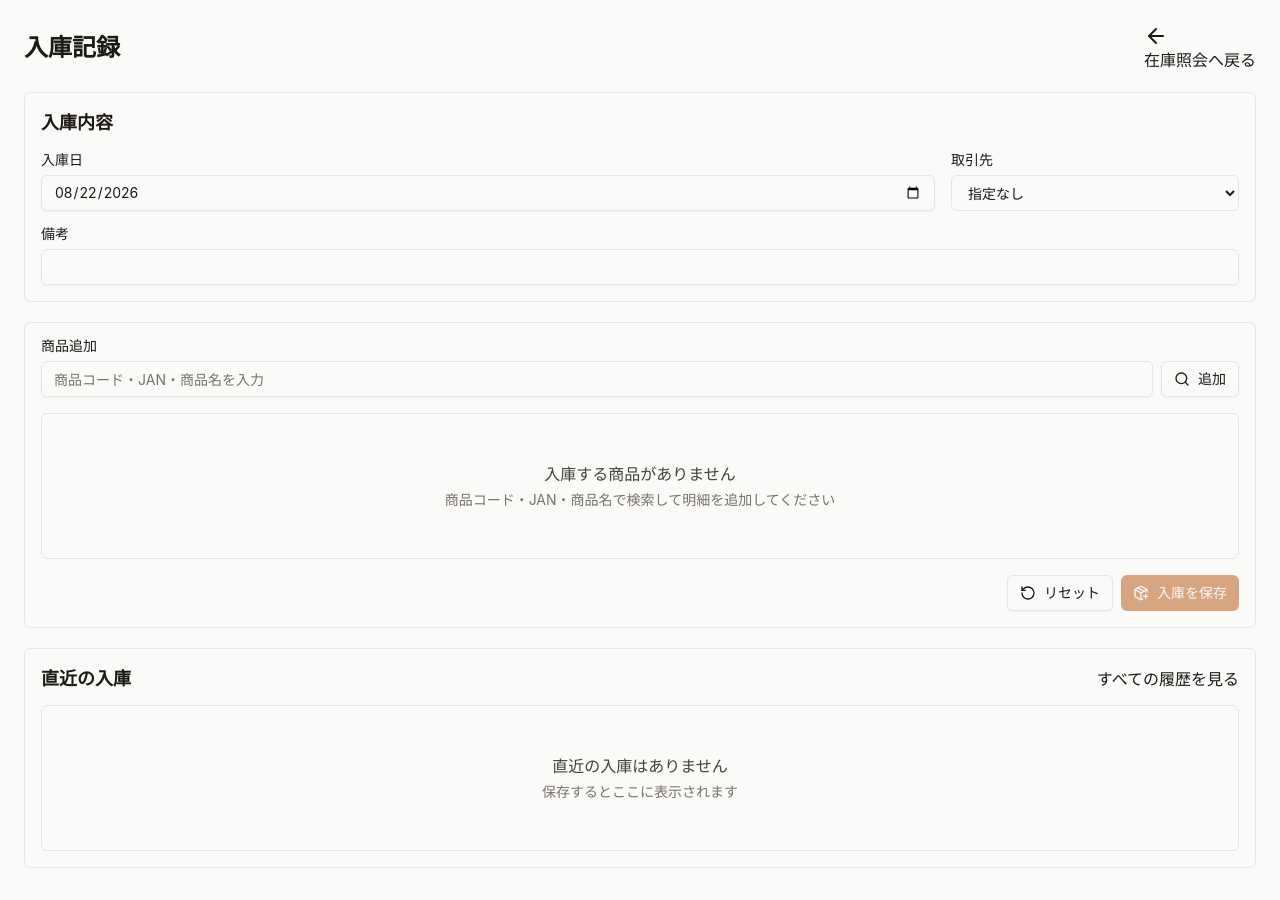
ReceivingPage (UI-02 / REQ-201) › REQ-201 keeps validation errors for unchanged rows when another row changes
Step 1. Type "P-001" into the dropdown named "入庫商品検索" → (597,379), box [41, 361, 1153, 397]
Then press Enter
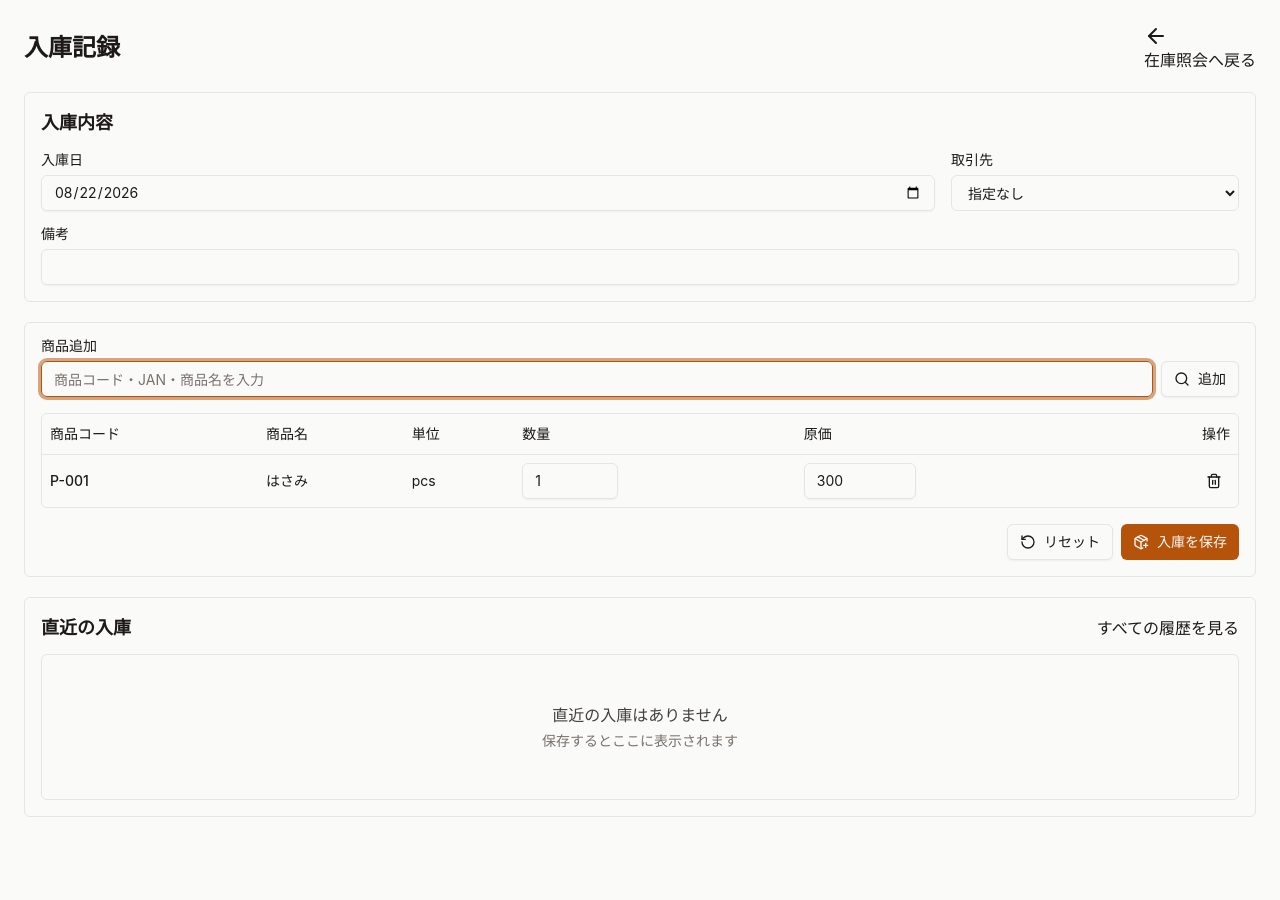
Step 2. Type "P-002" into the dropdown named "入庫商品検索" → (597,379), box [41, 361, 1153, 397]
Then press Enter
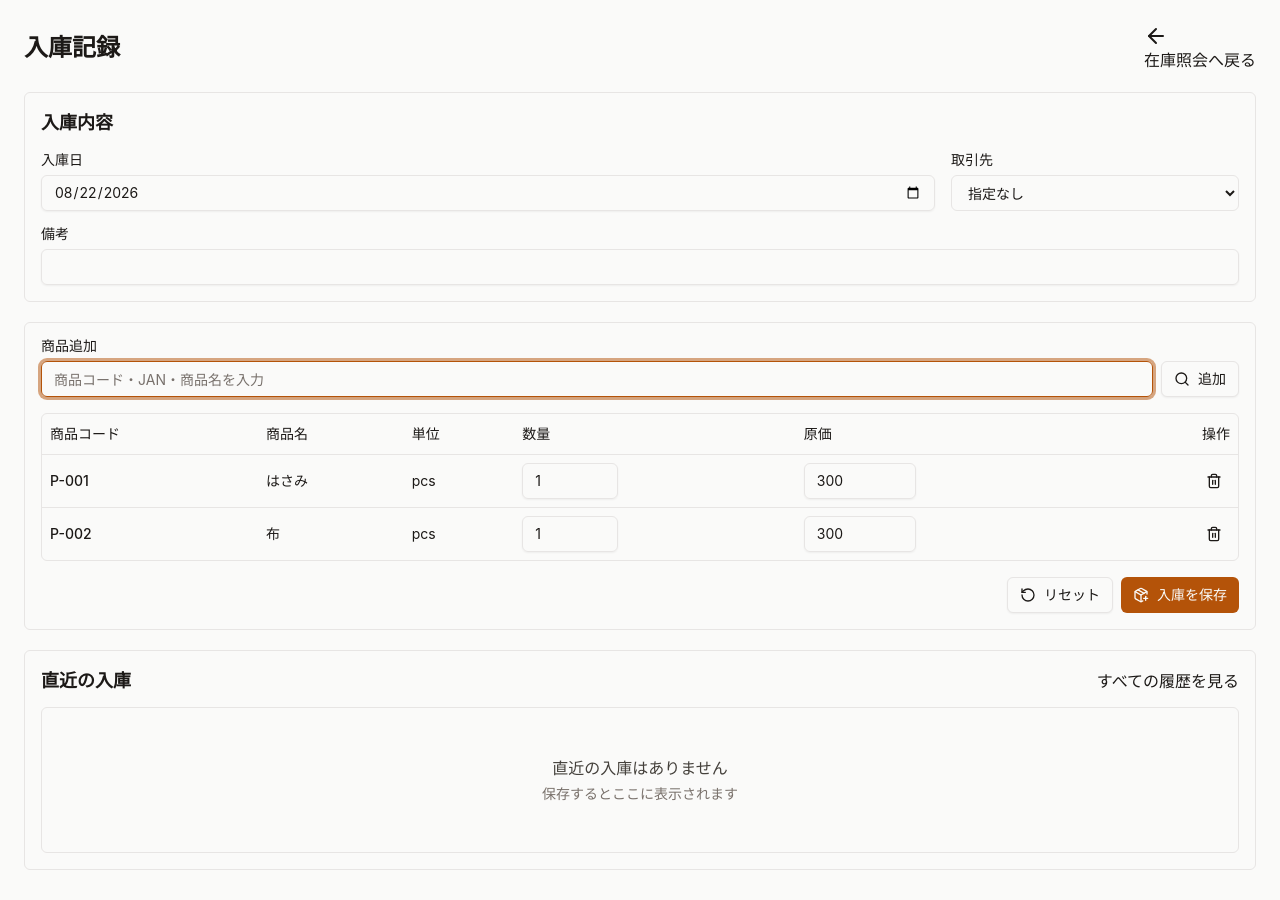
Step 3. Replace the text in the number field named "P-001 の数量" with "0" → (570,480), box [522, 462, 618, 498]
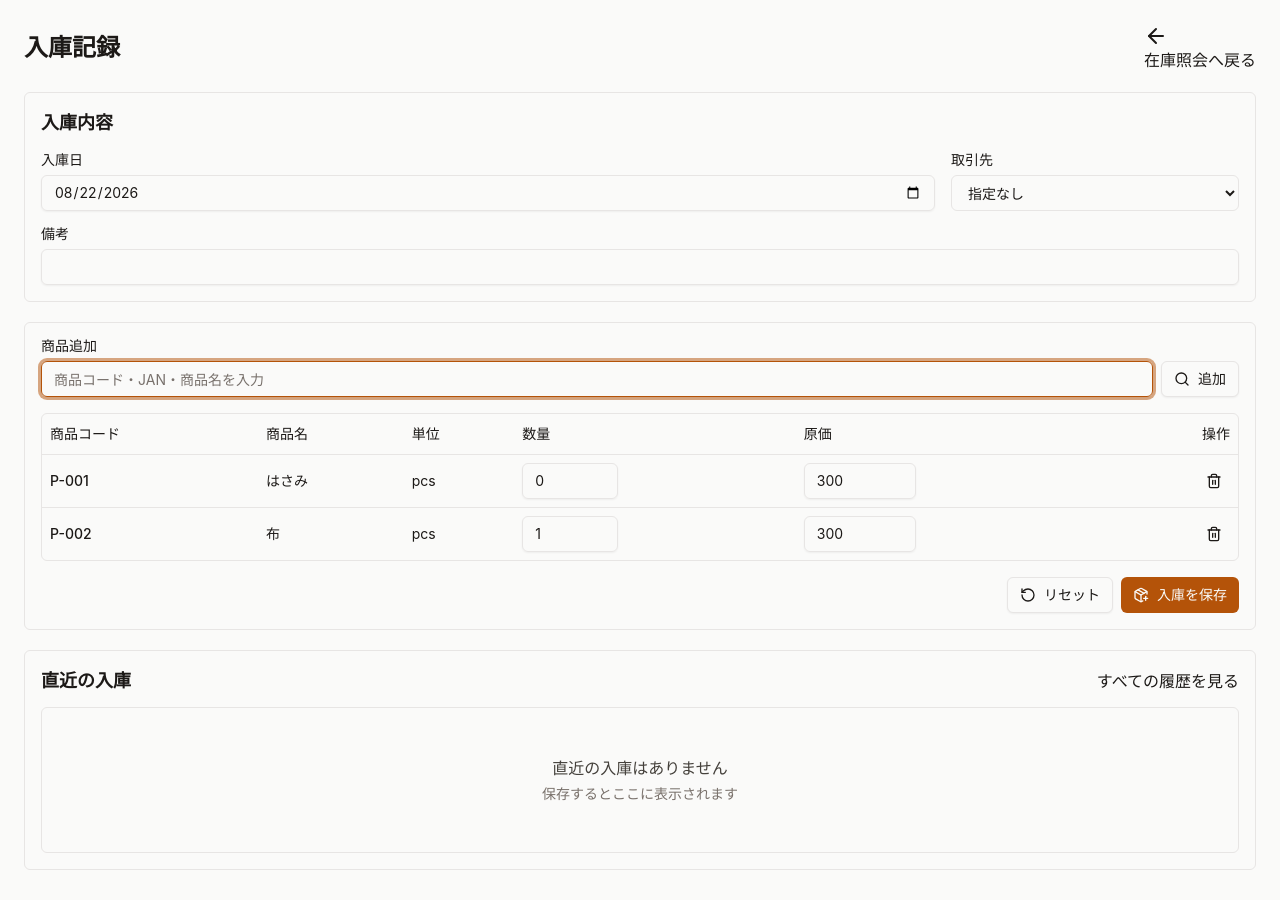
Step 4. Replace the text in the number field named "P-002 の数量" with "0" → (570,534), box [522, 516, 618, 552]
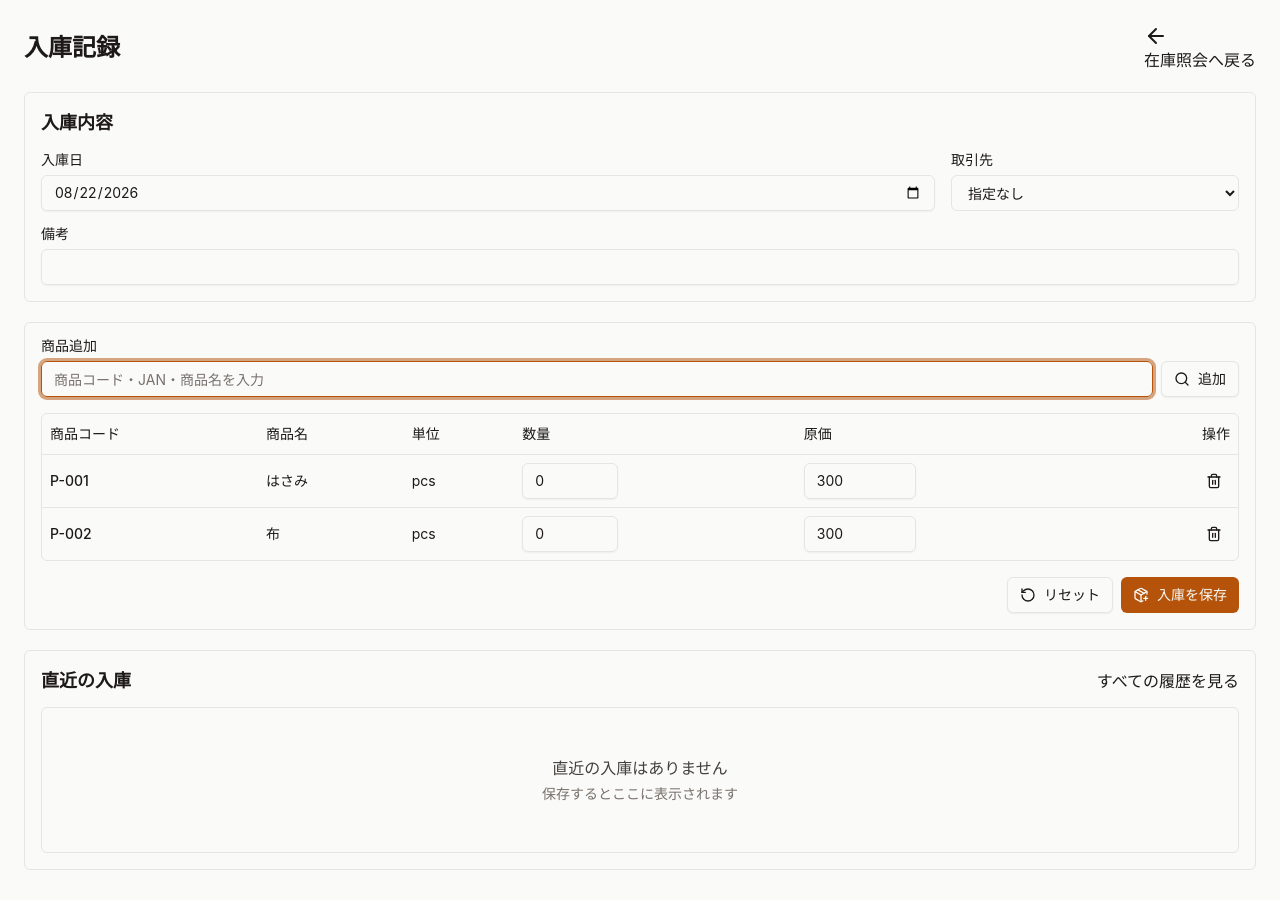
Step 5. Click the button "入庫を保存" → (1180,594), box [1121, 576, 1239, 612]
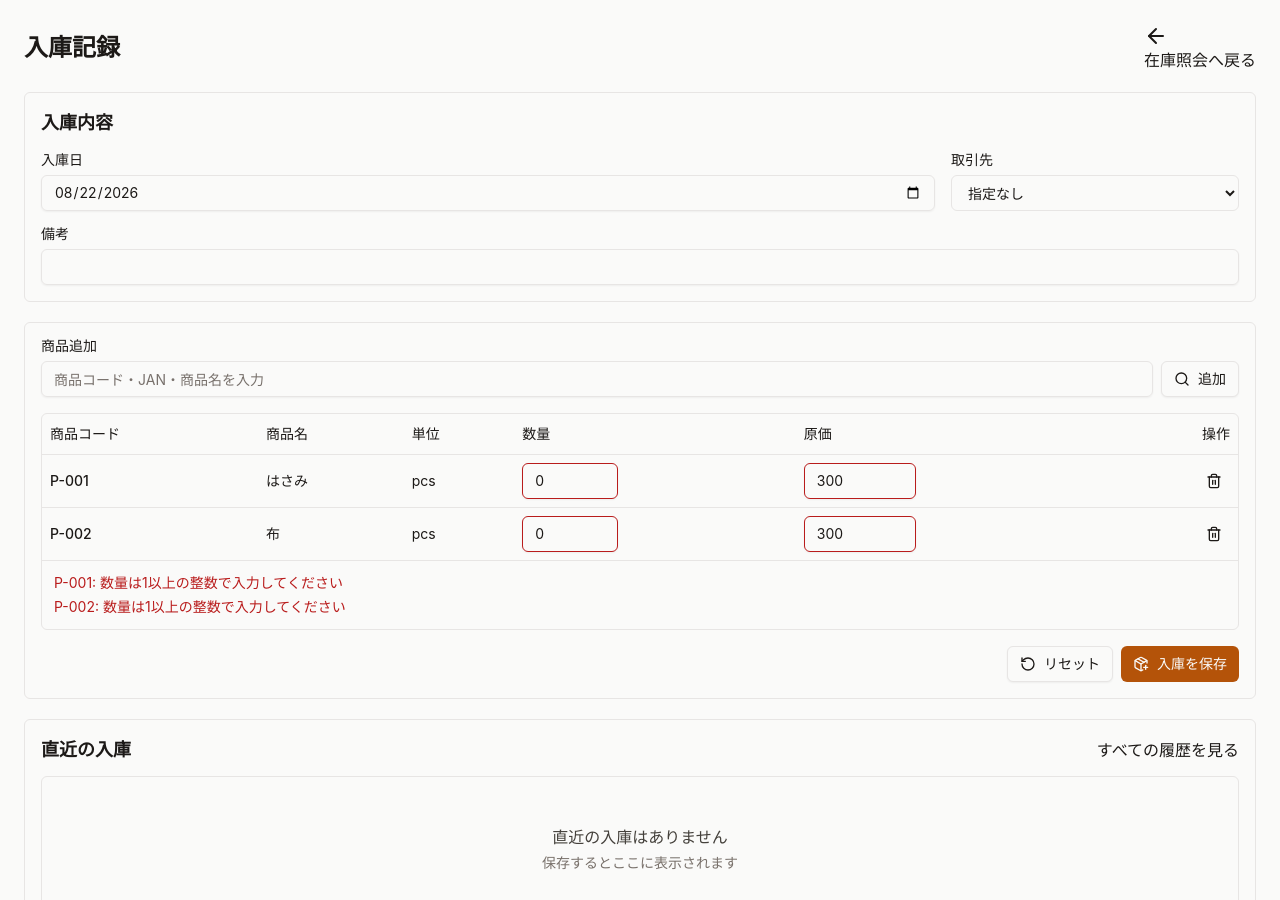
Now the text "P-001: 数量は1以上の整数で入力してください" is shown, box [54, 574, 343, 590]
Now the text "P-002: 数量は1以上の整数で入力してください" is shown, box [54, 598, 346, 614]
Step 6. Click the button named "P-001 を削除" → (1214,480), box [1198, 464, 1230, 496]
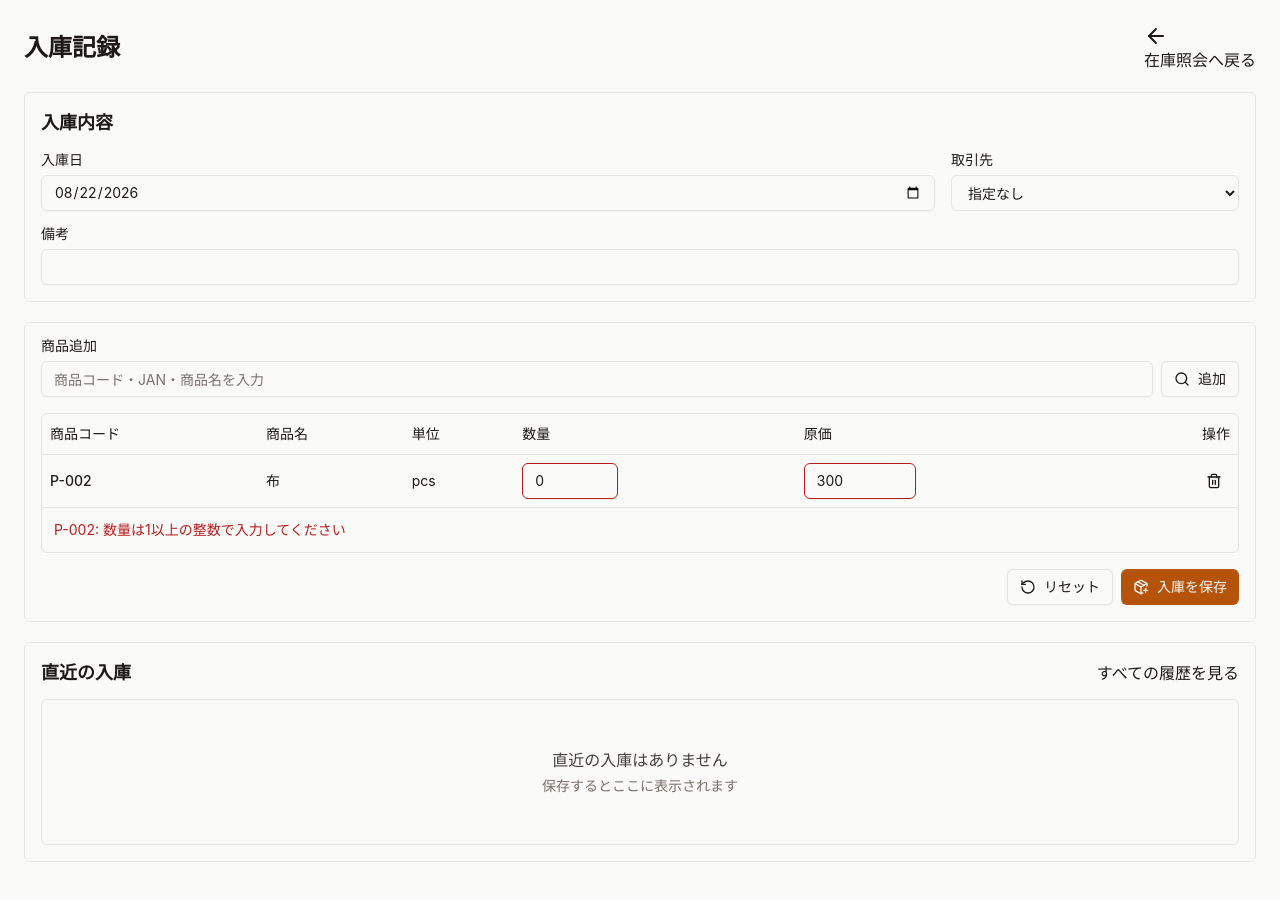
Now the text "P-002: 数量は1以上の整数で入力してください" is shown, box [54, 520, 346, 538]
Now the text "P-001: 数量は1以上の整数で入力してください" is gone
